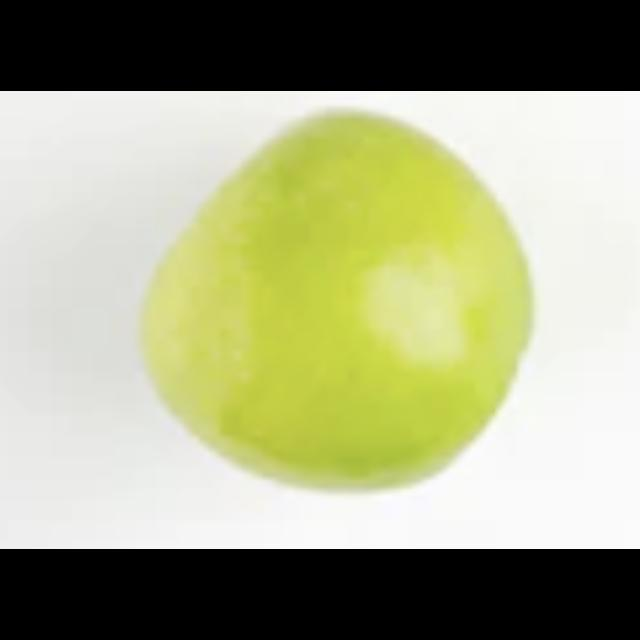Apel Segar: (59, 106, 564, 490)
